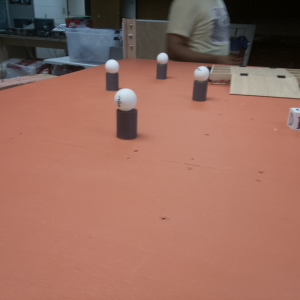blockD: (285, 106, 300, 127)
corner: (121, 19, 136, 60)
obstacle: (116, 90, 138, 139), (194, 64, 209, 102), (105, 59, 119, 90), (156, 53, 168, 79)
slope: (229, 74, 300, 101)
